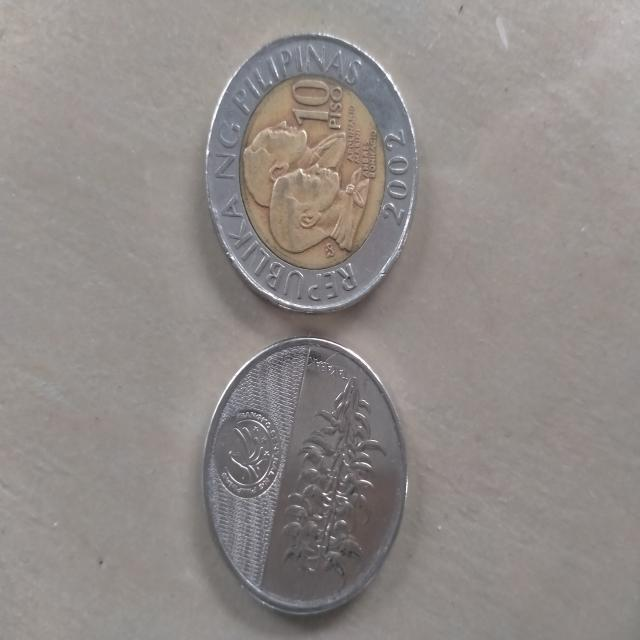10_Old_Front: (205, 34, 417, 310)
5_New_Back: (282, 360, 402, 613)
